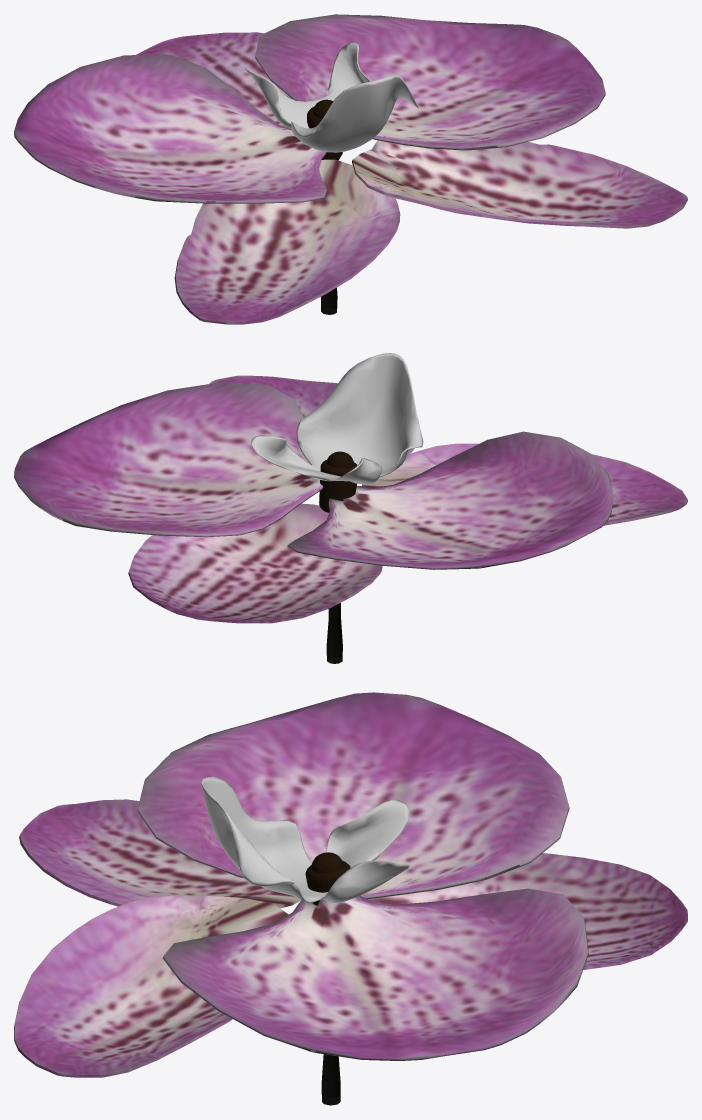
The model's file is orchid0617.obj.
3 views of the same model, one above another, from view 1: azimuth 30°, elevation 25°; view 2: azimuth 150°, elevation 25°; view 3: azimuth 270°, elevation 25° (orthographic). The views are drawn at different scales.
Visible parts, largest first — view 1: Orchid1_Plane.004; view 2: Orchid1_Plane.004; view 3: Orchid1_Plane.004.
Part boxes in pixels (bbox=[...]): Orchid1_Plane.004: bbox=[14, 14, 687, 324]; Orchid1_Plane.004: bbox=[14, 353, 687, 663]; Orchid1_Plane.004: bbox=[14, 692, 687, 1105].
Bounding box in the file's own units: 0.966 × 0.4503 × 0.8679.
